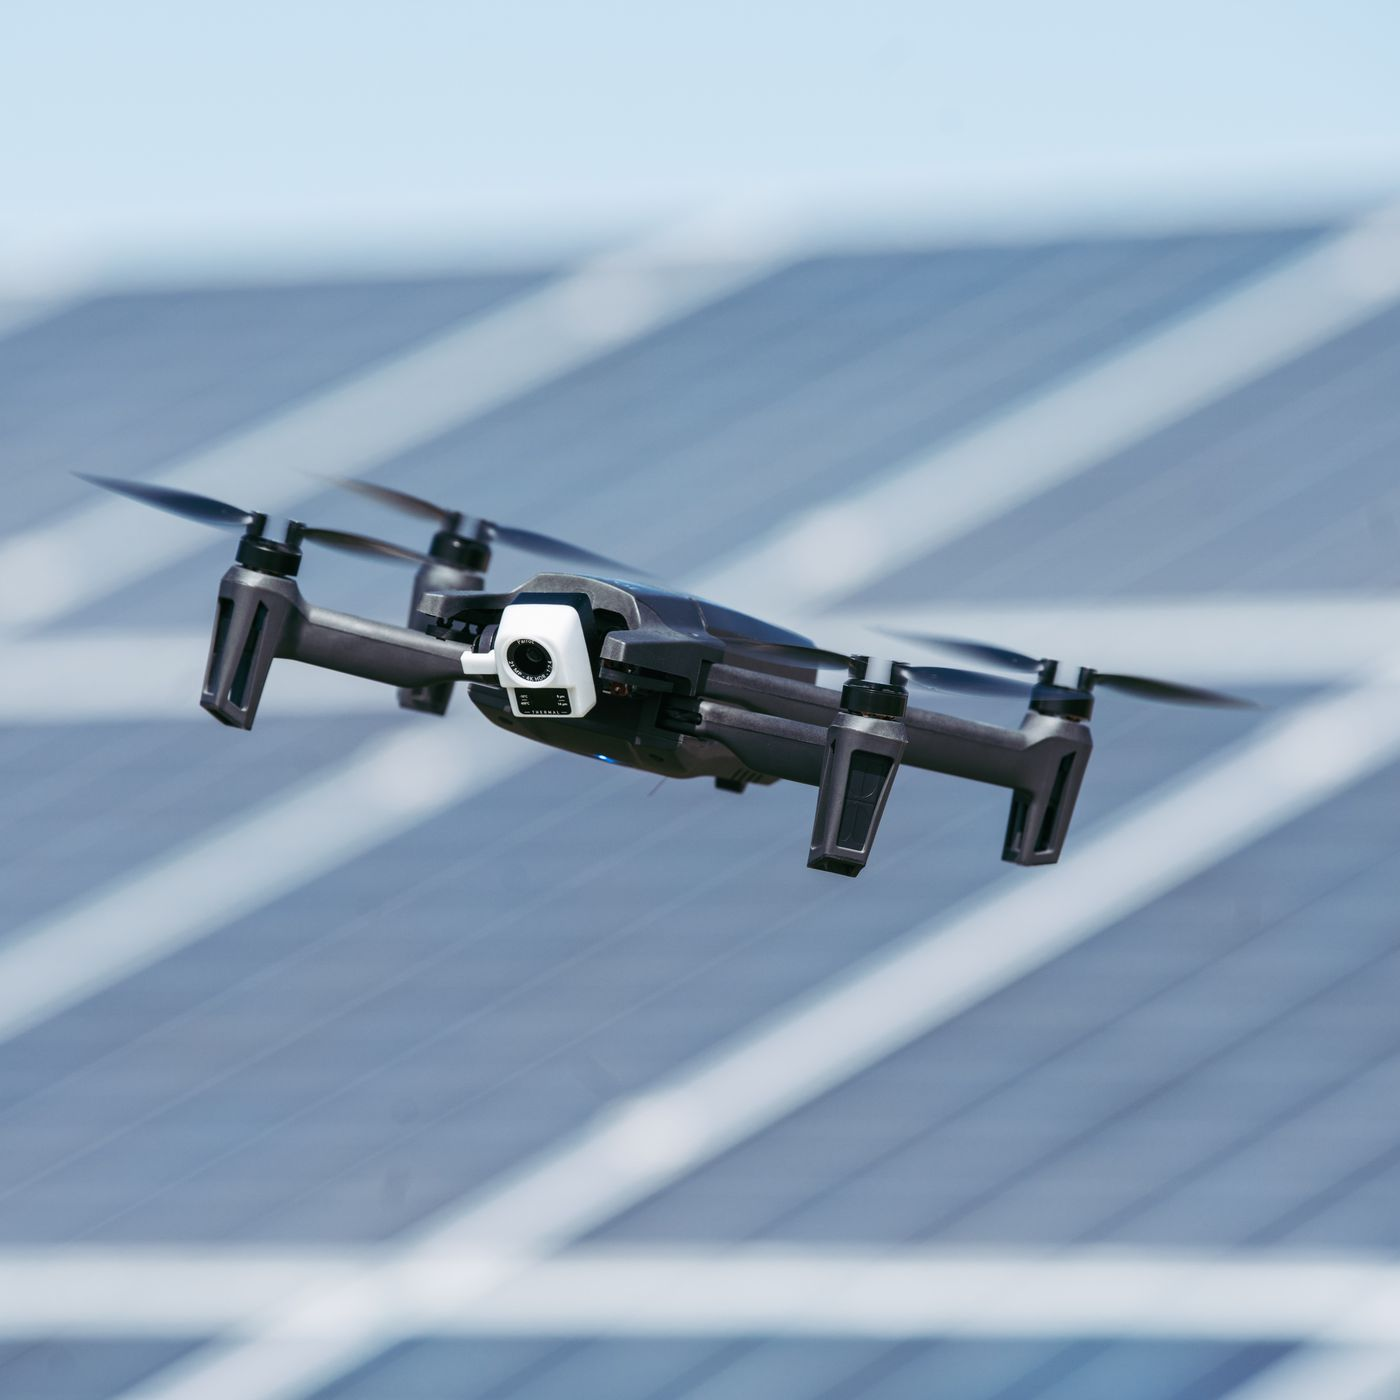drone: (87, 481, 1256, 883)
